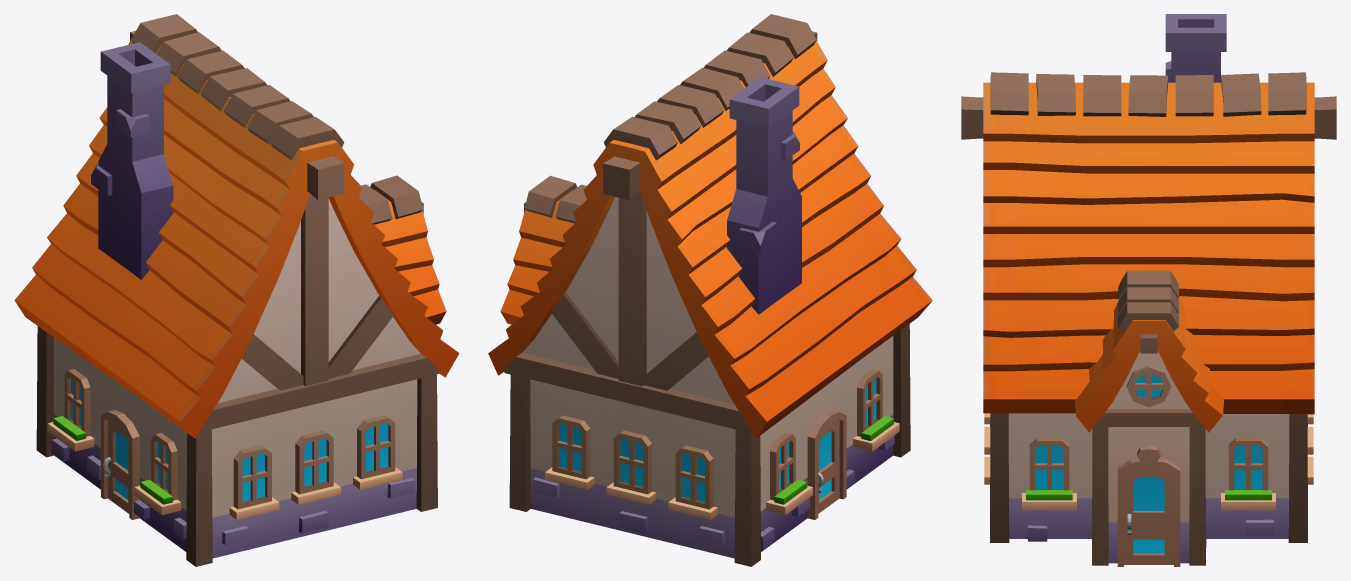
Rendered from cottage.glb.
3 views of the same model, side by side, from view 1: azimuth 30°, elevation 25°; view 2: azimuth 150°, elevation 25°; view 3: azimuth 270°, elevation 25° (orthographic).
Parts seen in each view (by area): view 1: cottage; view 2: cottage; view 3: cottage.
Part boxes in pixels (x1,y1,x2,y2): cottage: (14,14,459,566); cottage: (488,14,932,566); cottage: (961,14,1336,566).
Bounding box in the file's own units: 6.75 × 8.47 × 6.82.
1 material, 1 textured.
